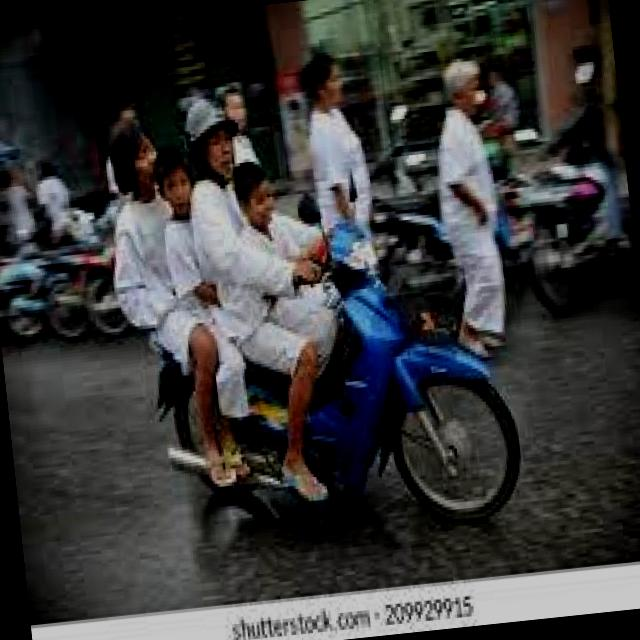motorcycle: (141, 199, 529, 556)
person: (176, 84, 323, 365), (90, 104, 229, 385), (227, 142, 380, 393), (141, 132, 244, 364)
rider_region: (86, 80, 534, 558)
